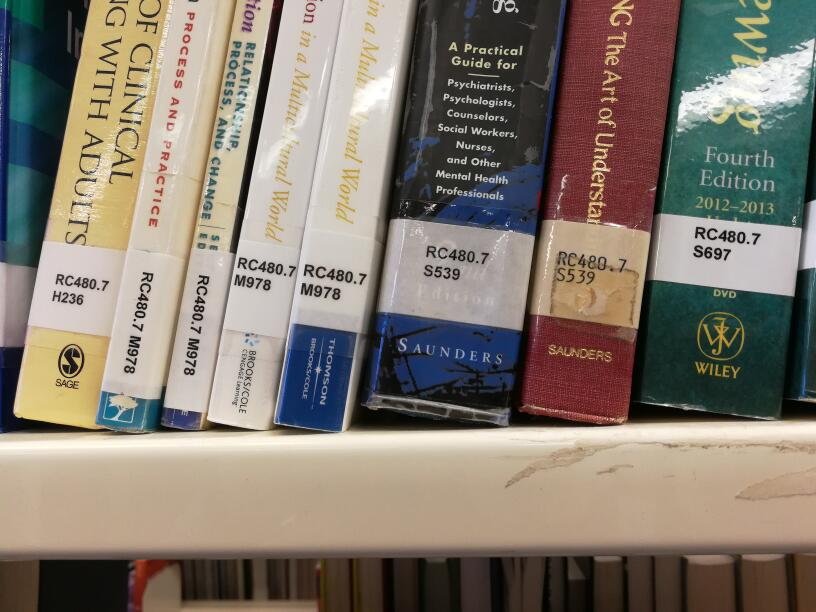booklabel: (122, 269, 156, 373), (181, 273, 210, 375), (691, 224, 764, 263), (422, 242, 491, 282), (554, 249, 628, 286), (300, 262, 369, 300), (232, 255, 297, 294), (50, 273, 110, 305)
